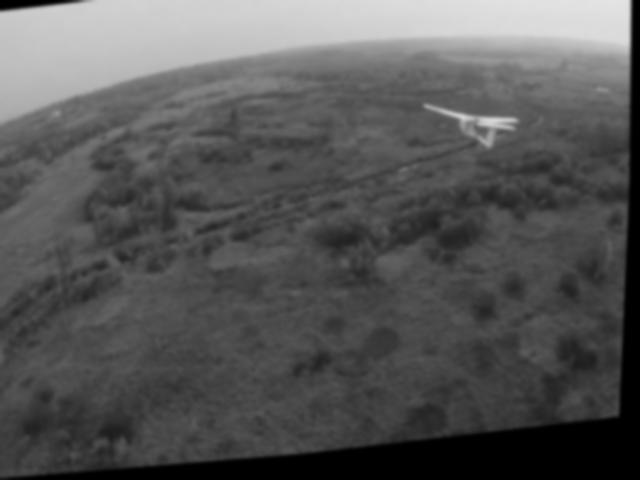hedef: (412, 95, 528, 174)
